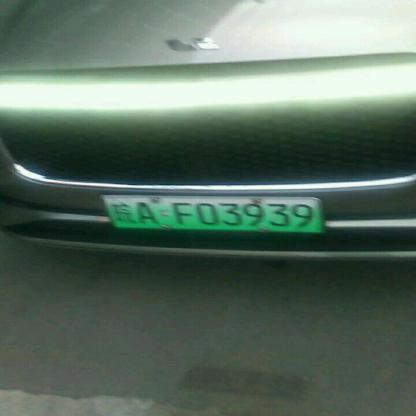lp: (101, 196, 323, 234)
